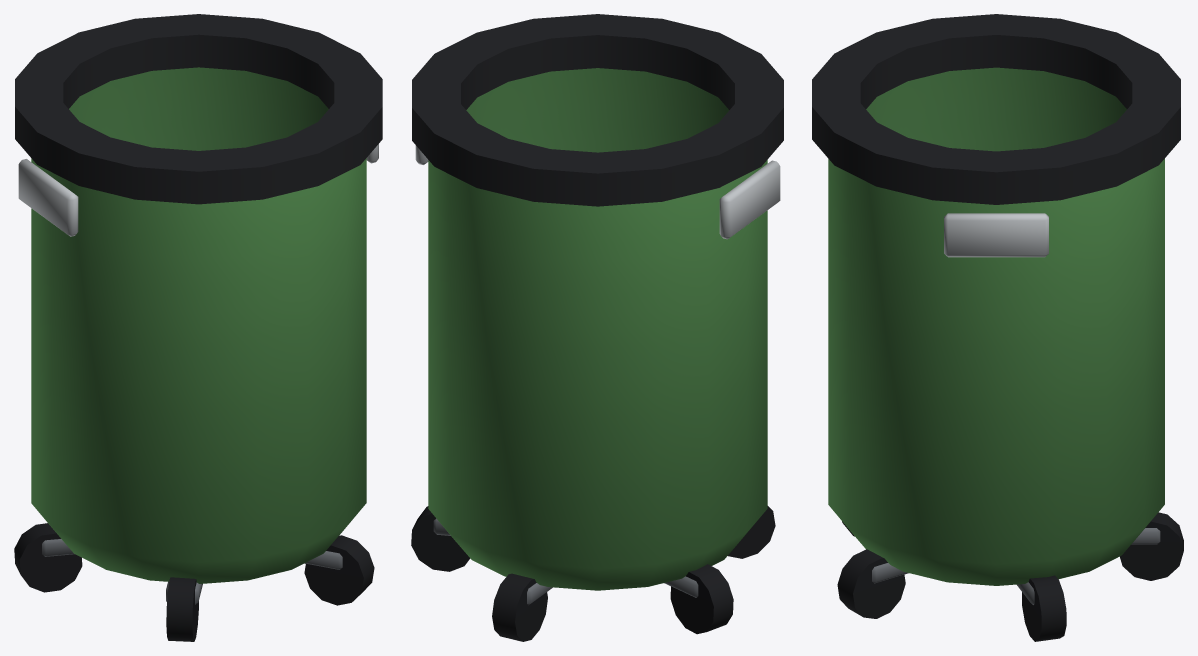
Rendered from SM_TrashCan_Round_Dolly_01.glb.
3 views of the same model, side by side, from view 1: azimuth 30°, elevation 25°; view 2: azimuth 150°, elevation 25°; view 3: azimuth 270°, elevation 25° (orthographic).
Parts seen in each view (by area): view 1: SM_TrashCan_Round_Dolly_01; view 2: SM_TrashCan_Round_Dolly_01; view 3: SM_TrashCan_Round_Dolly_01.
Boxes of the visible parts, x1,y1,x2,y2 form: SM_TrashCan_Round_Dolly_01: (14,14,382,641); SM_TrashCan_Round_Dolly_01: (411,14,783,641); SM_TrashCan_Round_Dolly_01: (812,14,1183,641).
Bounding box in the file's own units: 0.57 × 0.81 × 0.5657.
1 material, 1 textured.
